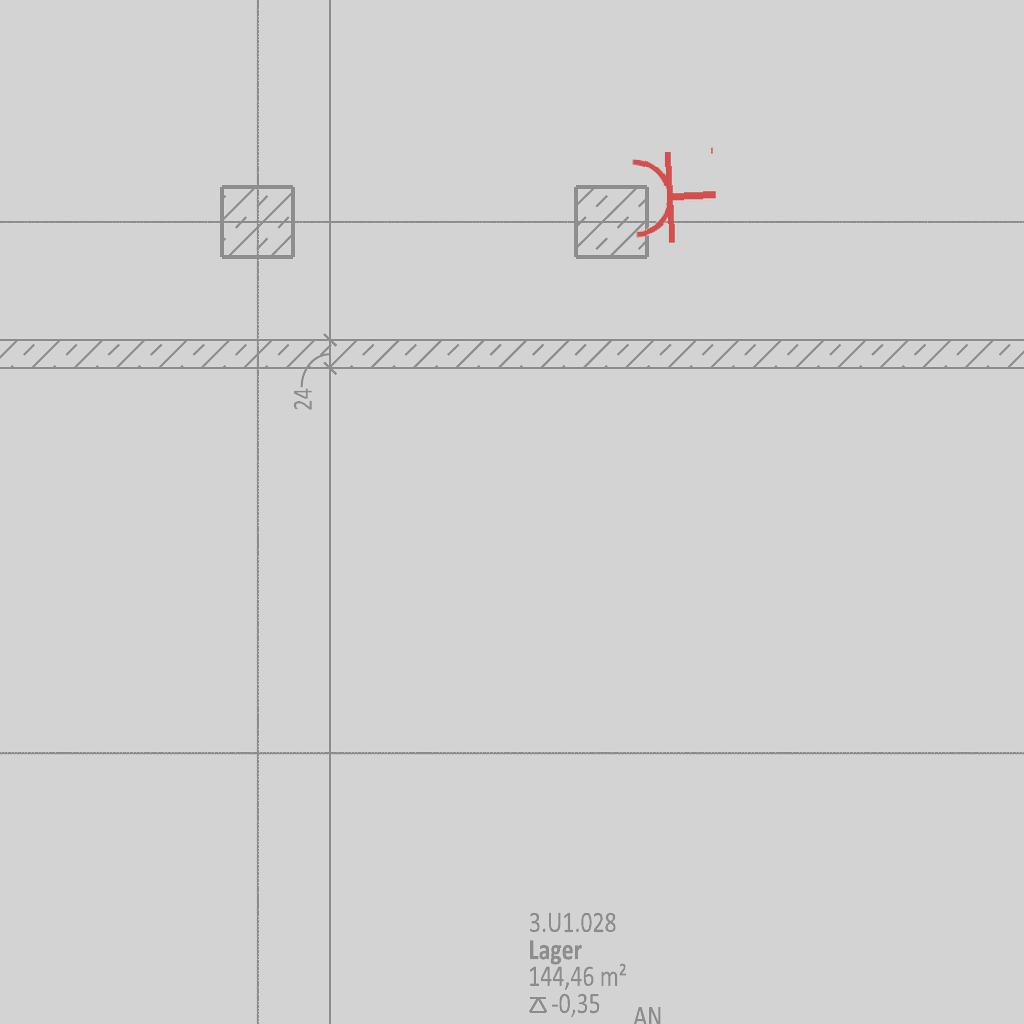Schukosteckdose_einfach: (628, 142, 721, 248)
